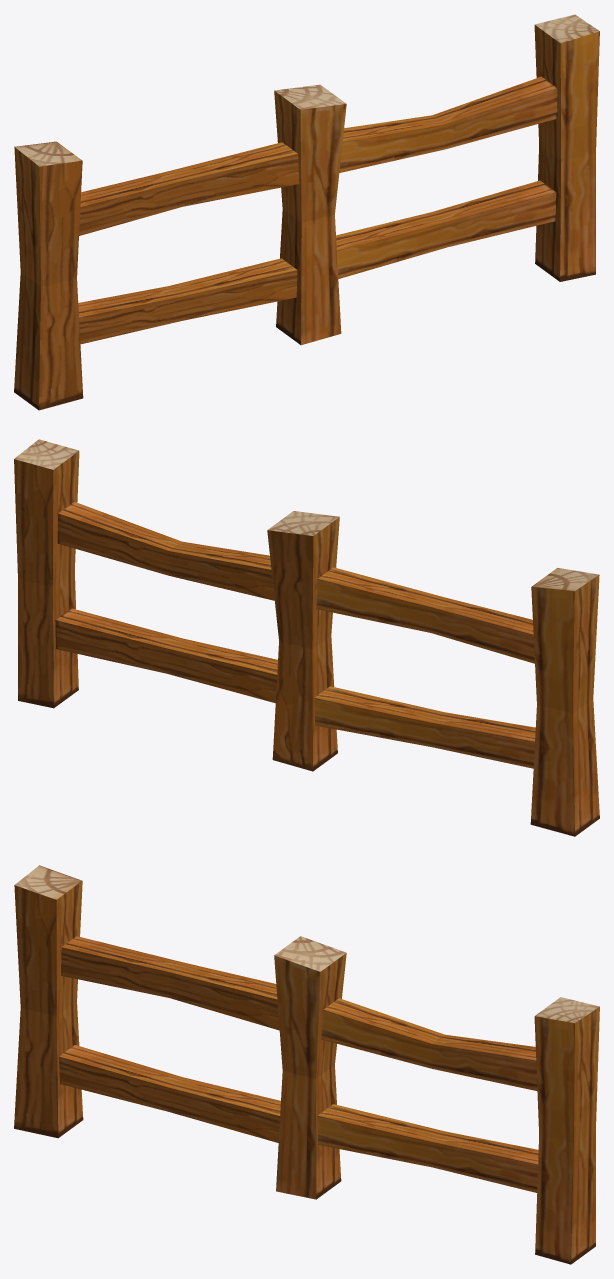
Rendered from fence_03.fbx.
The picture shows the model from 3 angles, top to bottom: view 1: azimuth 30°, elevation 25°; view 2: azimuth 150°, elevation 25°; view 3: azimuth 330°, elevation 25°; orthographic projection.
Parts seen in each view (by area): view 1: Cube.012; view 2: Cube.012; view 3: Cube.012.
Part boxes in pixels (x1=…): Cube.012: x1=14, y1=14, x2=599, y2=410; Cube.012: x1=14, y1=439, x2=599, y2=836; Cube.012: x1=14, y1=865, x2=599, y2=1264.
Bounding box in the file's own units: 214 × 89.61 × 17.47.
